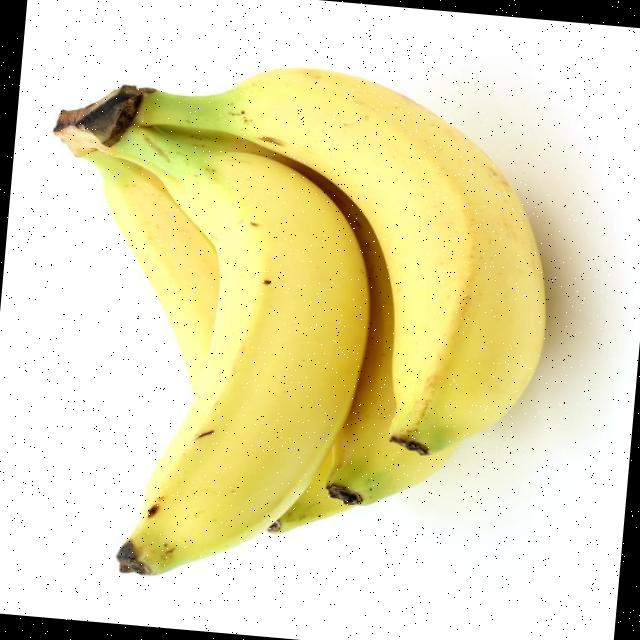banana: (54, 65, 550, 455), (106, 122, 372, 575)
